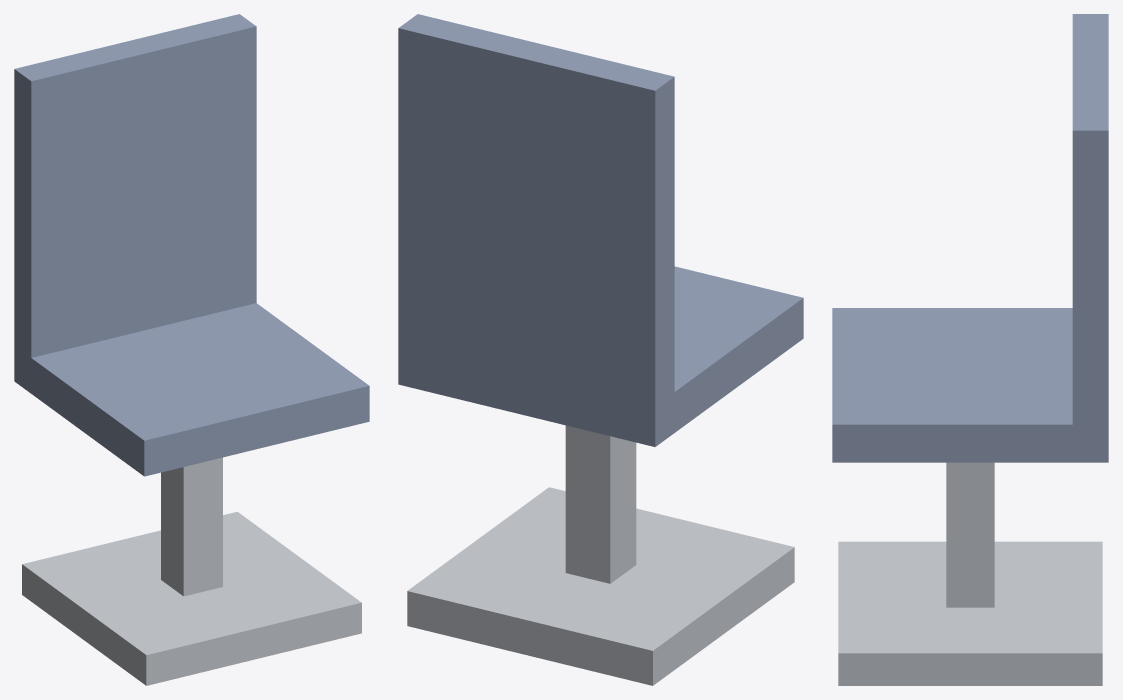
Rendered from chair.glb.
The picture shows the model from 3 angles, left to right: view 1: azimuth 30°, elevation 25°; view 2: azimuth 150°, elevation 25°; view 3: azimuth 270°, elevation 25°; orthographic projection. The views are drawn at different scales.
Parts seen in each view (by area): view 1: chair_Back, chair_Seat, chair_Base, chair_Post; view 2: chair_Back, chair_Base, chair_Seat, chair_Post; view 3: chair_Seat, chair_Base, chair_Back, chair_Post.
Part boxes in pixels (x1=…): chair_Back: x1=14, y1=14, x2=256, y2=362; chair_Seat: x1=14, y1=303, x2=369, y2=476; chair_Base: x1=22, y1=511, x2=361, y2=685; chair_Post: x1=161, y1=457, x2=222, y2=596; chair_Back: x1=398, y1=14, x2=674, y2=411; chair_Base: x1=407, y1=487, x2=794, y2=685; chair_Seat: x1=398, y1=266, x2=803, y2=446; chair_Post: x1=565, y1=425, x2=636, y2=583; chair_Seat: x1=832, y1=308, x2=1108, y2=462; chair_Base: x1=838, y1=541, x2=1102, y2=685; chair_Back: x1=1072, y1=14, x2=1108, y2=429; chair_Post: x1=946, y1=462, x2=994, y2=607.
Size of the model in its own units: 0.46 by 1.03 by 0.46.
